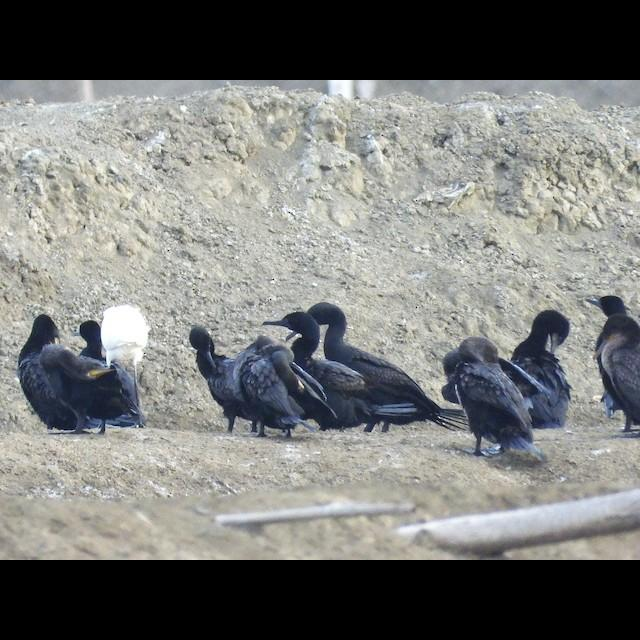cormorant: (310, 304, 428, 430), (452, 338, 538, 460), (233, 331, 299, 447), (38, 343, 108, 431), (588, 310, 638, 426), (180, 324, 228, 418)
egret: (109, 302, 157, 424)
